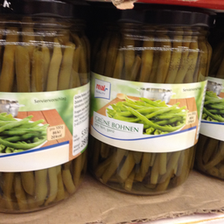beans: (95, 1, 215, 204), (1, 2, 90, 216)
